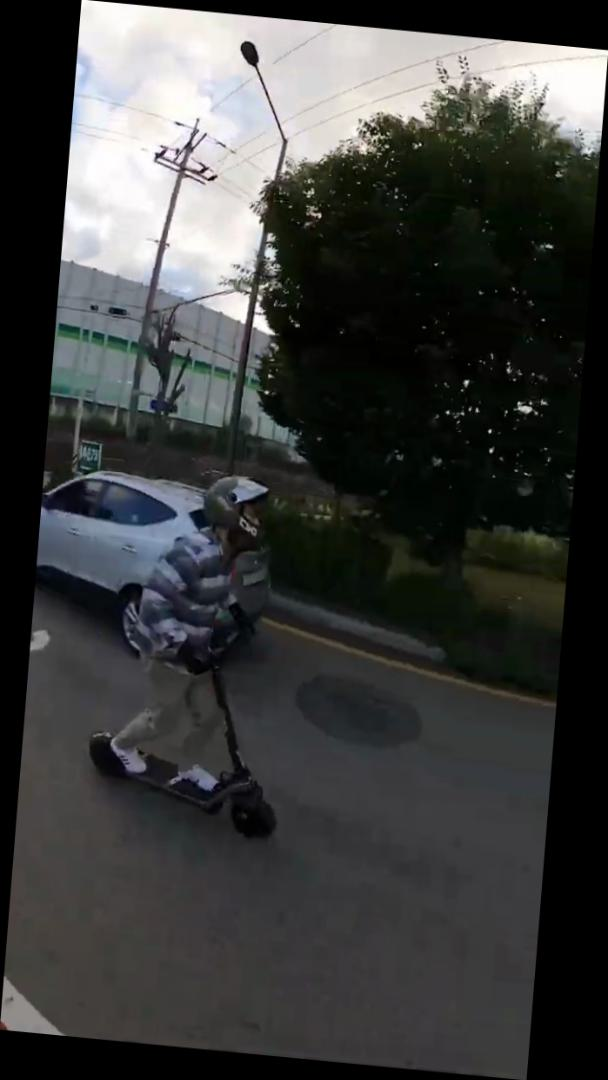helmet: (78, 453, 311, 843)
